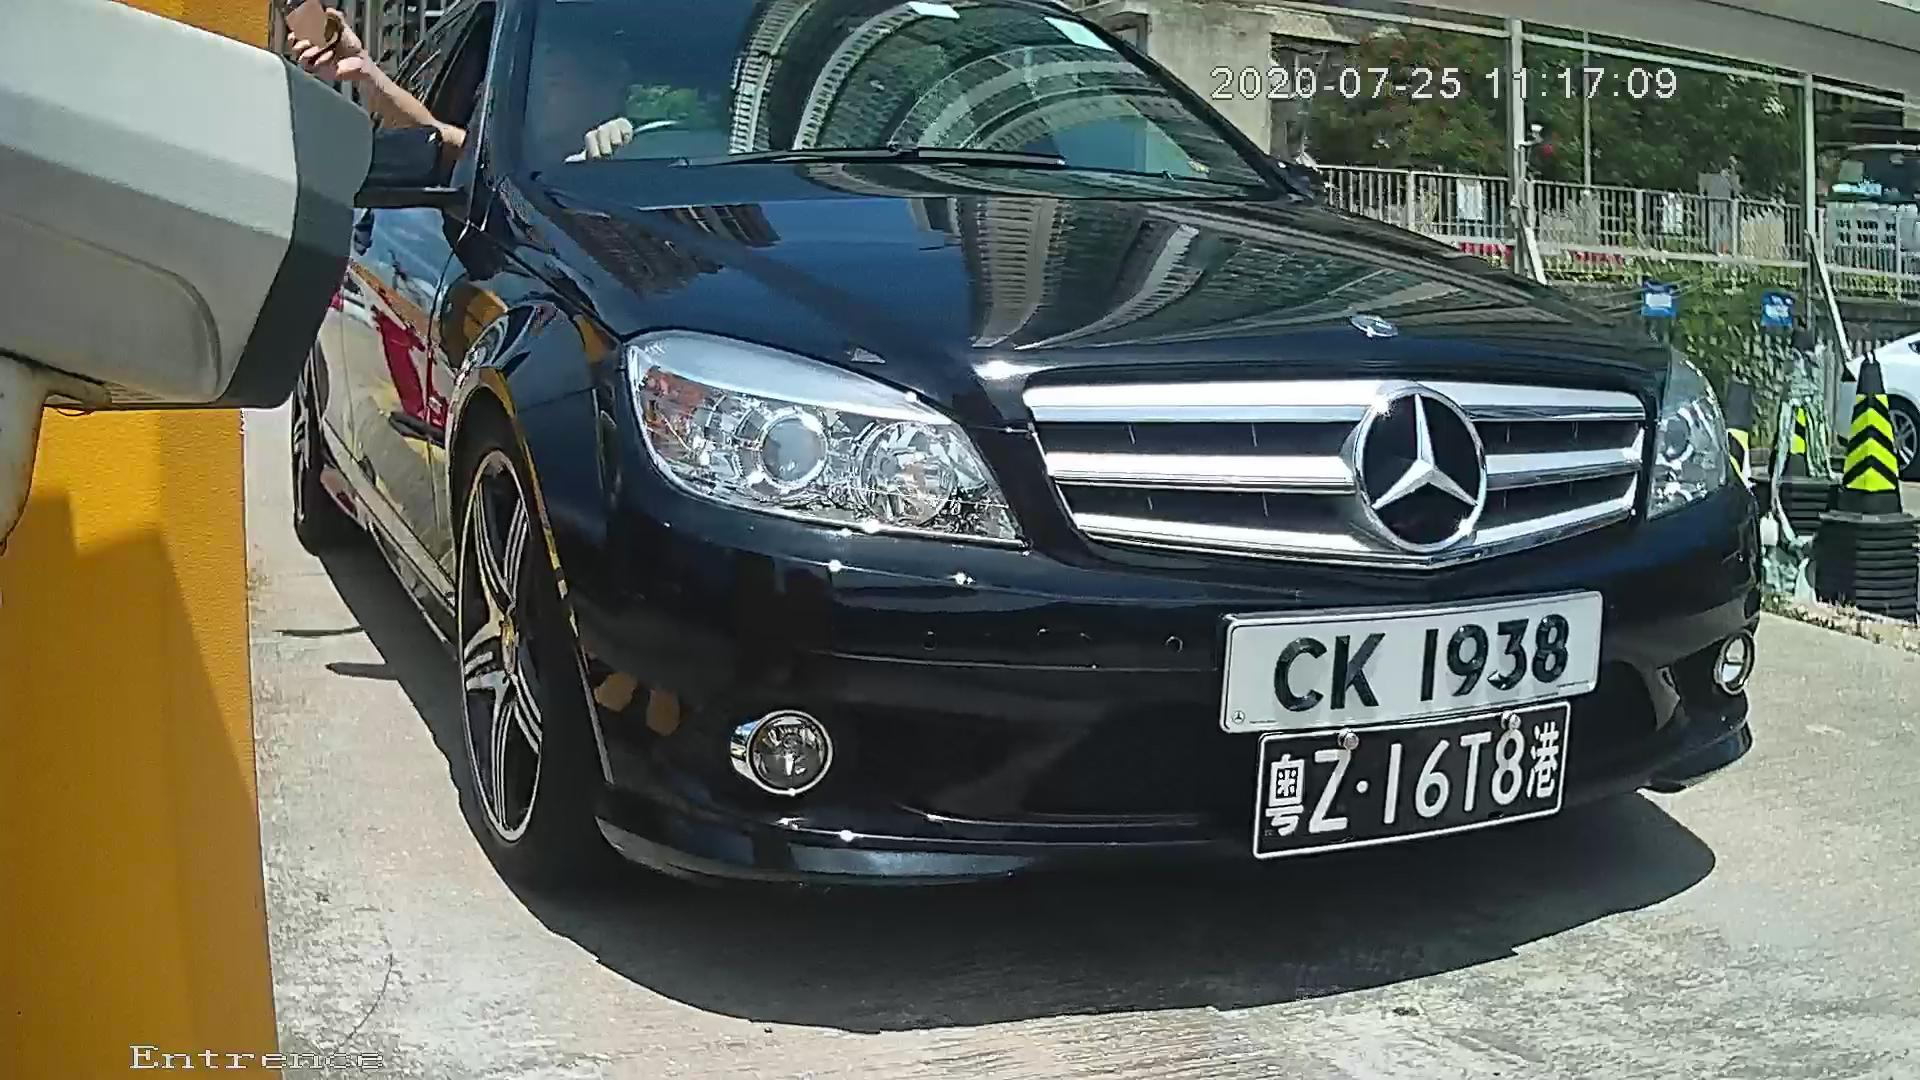License Plate: (1192, 589, 1612, 757)
